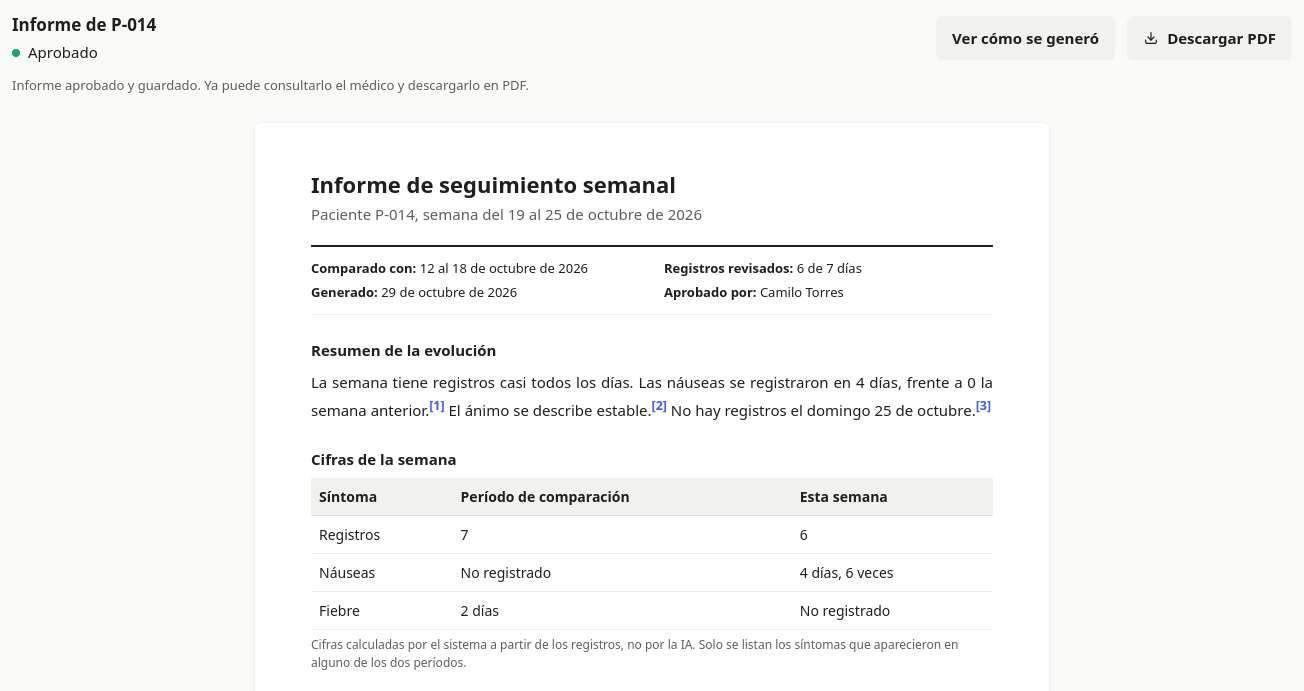
ReportViewComponent (vInfVer y hojaHTML del mockup) › si el servidor niega el PDF, muestra su motivo en un aviso y no descarga nada
Click the button "Descargar PDF" at (1210, 38), box [1127, 16, 1292, 60]
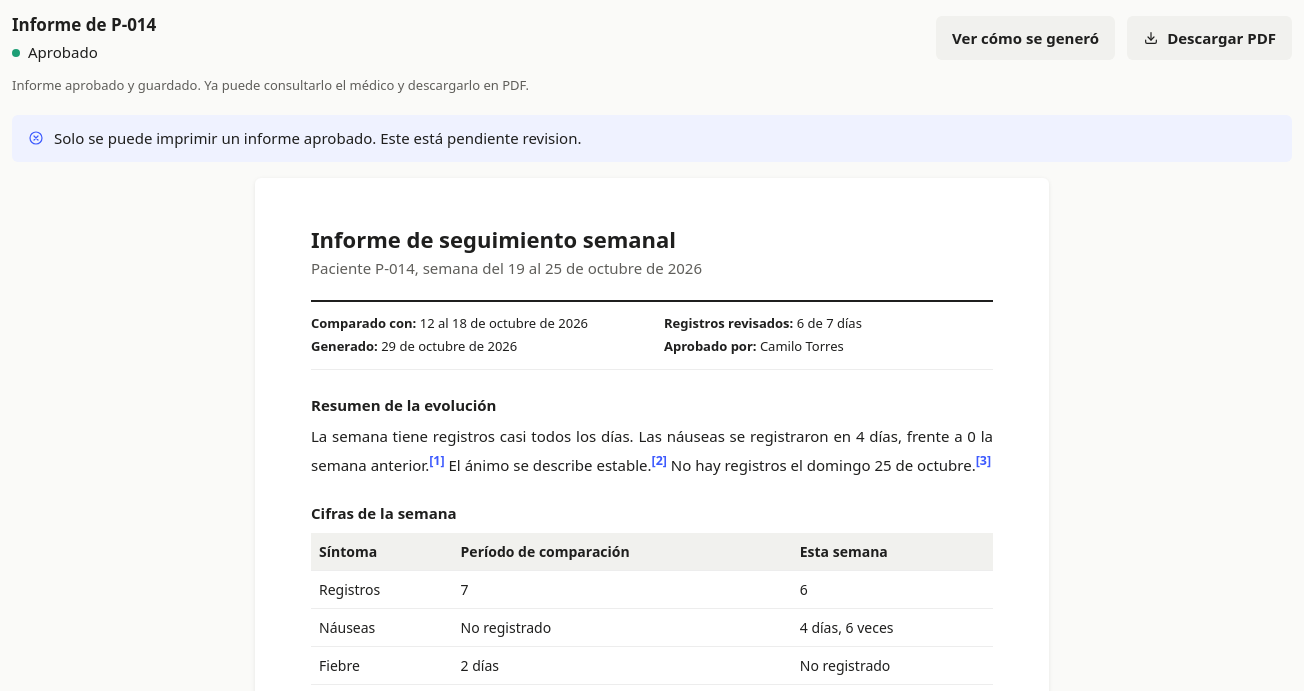
Check: the text "Solo se puede imprimir un informe aprobado. Este está pendiente revision." is shown, box [54, 127, 582, 150]
